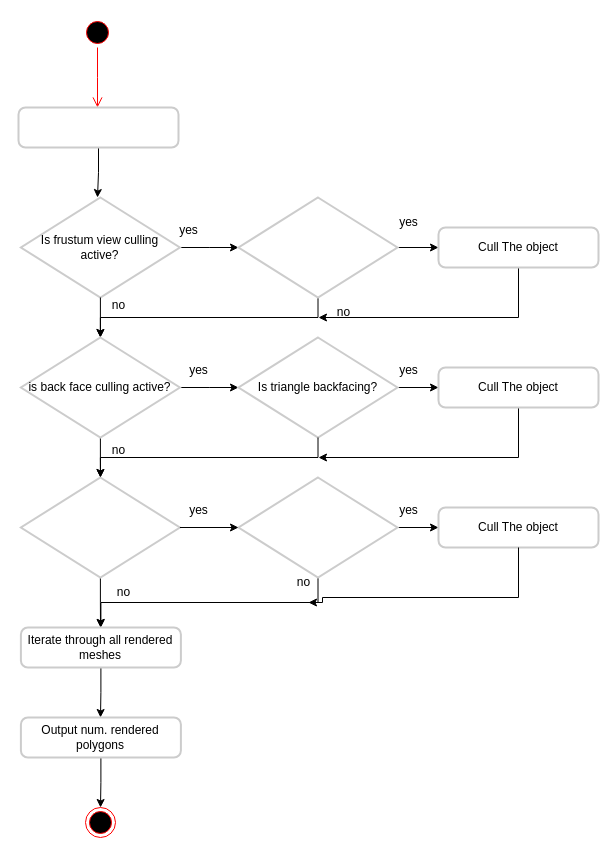
The diagram is 616 pixels wide and 855 high, and some of its shapes have lost their labels. The box of each missing label's shape, as (x1, y1, x2, y2) in pixels:
are the objects triangles obscured by another?: (237, 476, 398, 578)
Are the objects triangles outside of the frustum view cone?: (237, 196, 398, 298)
Is occlusion culling active?: (19, 476, 180, 578)
Load meshes in the scene: (17, 106, 179, 148)
